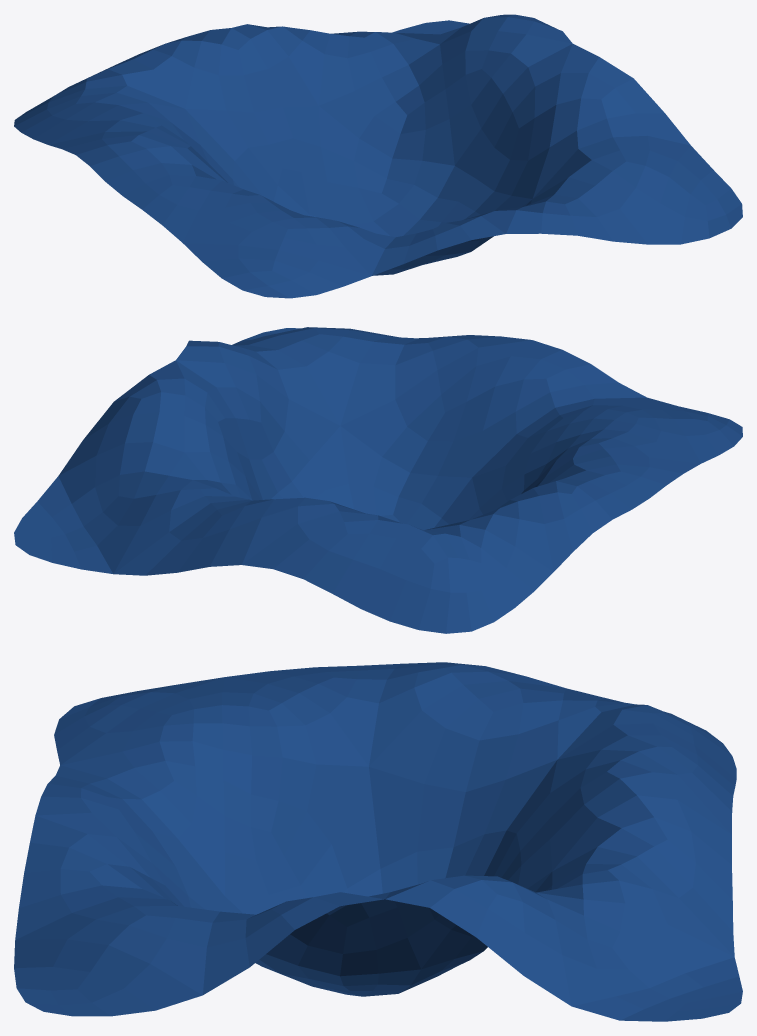
File: bottom.obj
The picture shows the model from 3 angles, top to bottom: view 1: azimuth 30°, elevation 25°; view 2: azimuth 150°, elevation 25°; view 3: azimuth 270°, elevation 25°; orthographic projection. The views are drawn at different scales.
Visible parts, largest first — view 1: Plane.001; view 2: Plane.001; view 3: Plane.001.
Part boxes in pixels (x1,y1,x2,y2): Plane.001: (14, 14, 742, 298); Plane.001: (14, 327, 742, 633); Plane.001: (14, 662, 742, 1021).
Size of the model in its own units: 26.15 by 8.7 by 26.77.
Materials: 1 (1 with a texture image).
